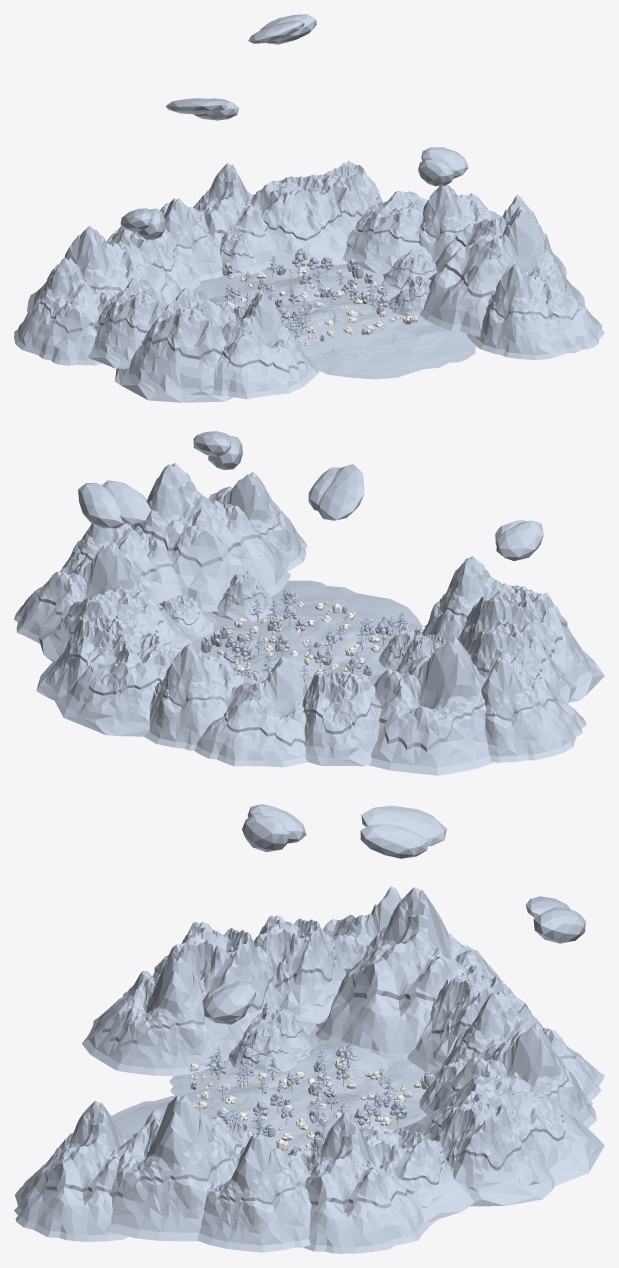
Rendered from mountain_2.glb.
3 views of the same model, one above another, from view 1: azimuth 30°, elevation 25°; view 2: azimuth 150°, elevation 25°; view 3: azimuth 270°, elevation 25° (orthographic). The views are drawn at different scales.
Parts seen in each view (by area): view 1: PP_Forest_Mountain_Moss_02_5, PP_Forest_Mountain_Moss_01_6, PP_Forest_Mountain_Moss_01_4, PP_Forest_Mountain_Moss_01, PP_Forest_Mountain_Moss_02_3, PP_Forest_Mountain_Moss_01_2, PP_Forest_Mountain_Moss_01_4.005, PP_Forest_Mountain_Moss_02_2, PP_Forest_Mountain_Moss_01_8, PP_Forest_Mountain_Moss_02_9, PP_Forest_Mountain_Moss_01_3, PP_Forest_Mountain_Moss_01_4.001 (+18 smaller); view 2: PP_Forest_Mountain_Moss_01_8, PP_Forest_Mountain_Moss_01_6, PP_Forest_Mountain_Moss_01_1, PP_Forest_Mountain_Moss_02_3, PP_Forest_Mountain_Moss_01_2, PP_Forest_Mountain_Moss_02_10, PP_Forest_Mountain_Moss_01_3, PP_Forest_Mountain_Moss_02_5, PP_Forest_Mountain_Moss_01_7, PP_Forest_Mountain_Moss_02_2, PP_Forest_Mountain_Moss_01_5, PP_Forest_Mountain_Moss_02_9 (+18 smaller); view 3: PP_Forest_Mountain_Moss_01_8, PP_Forest_Mountain_Moss_01_6, PP_Forest_Mountain_Moss_01, PP_Forest_Mountain_Moss_01_7, PP_Forest_Mountain_Moss_01_4, PP_Forest_Mountain_Moss_01_5, PP_Forest_Mountain_Moss_02_1, PP_Forest_Mountain_Moss_02_3, PP_Forest_Mountain_Moss_02_9, PP_Forest_Mountain_Moss_01_3, PP_Forest_Mountain_Moss_02_5, PP_Forest_Mountain_Moss_02_2 (+17 smaller).
Boxes of the visible parts, x1,y1,x2,y2 form: PP_Forest_Mountain_Moss_02_5: (115,287,234,402); PP_Forest_Mountain_Moss_01_6: (419,206,585,336); PP_Forest_Mountain_Moss_01_4: (466,262,604,360); PP_Forest_Mountain_Moss_01: (212,291,318,399); PP_Forest_Mountain_Moss_02_3: (250,174,349,269); PP_Forest_Mountain_Moss_01_2: (14,258,110,365); PP_Forest_Mountain_Moss_01_4.005: (307,317,476,379); PP_Forest_Mountain_Moss_02_2: (342,191,432,273); PP_Forest_Mountain_Moss_01_8: (27,225,182,312); PP_Forest_Mountain_Moss_02_9: (87,277,168,368); PP_Forest_Mountain_Moss_01_3: (193,163,276,269); PP_Forest_Mountain_Moss_01_4.001: (283,295,402,347); PP_Forest_Mountain_Moss_01_8: (368,637,493,775); PP_Forest_Mountain_Moss_01_6: (128,463,290,611); PP_Forest_Mountain_Moss_01_1: (194,656,307,767); PP_Forest_Mountain_Moss_02_3: (55,627,184,736); PP_Forest_Mountain_Moss_01_2: (481,656,586,762); PP_Forest_Mountain_Moss_02_10: (302,670,381,766); PP_Forest_Mountain_Moss_01_3: (144,642,256,750); PP_Forest_Mountain_Moss_02_5: (457,586,604,702); PP_Forest_Mountain_Moss_01_7: (14,542,148,644); PP_Forest_Mountain_Moss_02_2: (38,586,199,661); PP_Forest_Mountain_Moss_01_5: (60,523,182,603); PP_Forest_Mountain_Moss_02_9: (466,620,576,703); PP_Forest_Mountain_Moss_01_8: (315,887,513,1060); PP_Forest_Mountain_Moss_01_6: (104,1095,244,1241); PP_Forest_Mountain_Moss_01: (82,957,243,1075); PP_Forest_Mountain_Moss_01_7: (303,1112,437,1253); PP_Forest_Mountain_Moss_01_4: (14,1100,128,1241); PP_Forest_Mountain_Moss_01_5: (197,1133,311,1252); PP_Forest_Mountain_Moss_02_1: (432,1093,554,1206); PP_Forest_Mountain_Moss_02_3: (403,1071,604,1185); PP_Forest_Mountain_Moss_02_9: (254,915,345,1025); PP_Forest_Mountain_Moss_01_3: (424,1023,596,1128); PP_Forest_Mountain_Moss_02_5: (152,922,314,1034); PP_Forest_Mountain_Moss_02_2: (361,1126,473,1223).
Bounding box in the file's own units: 693 × 287 × 560.
